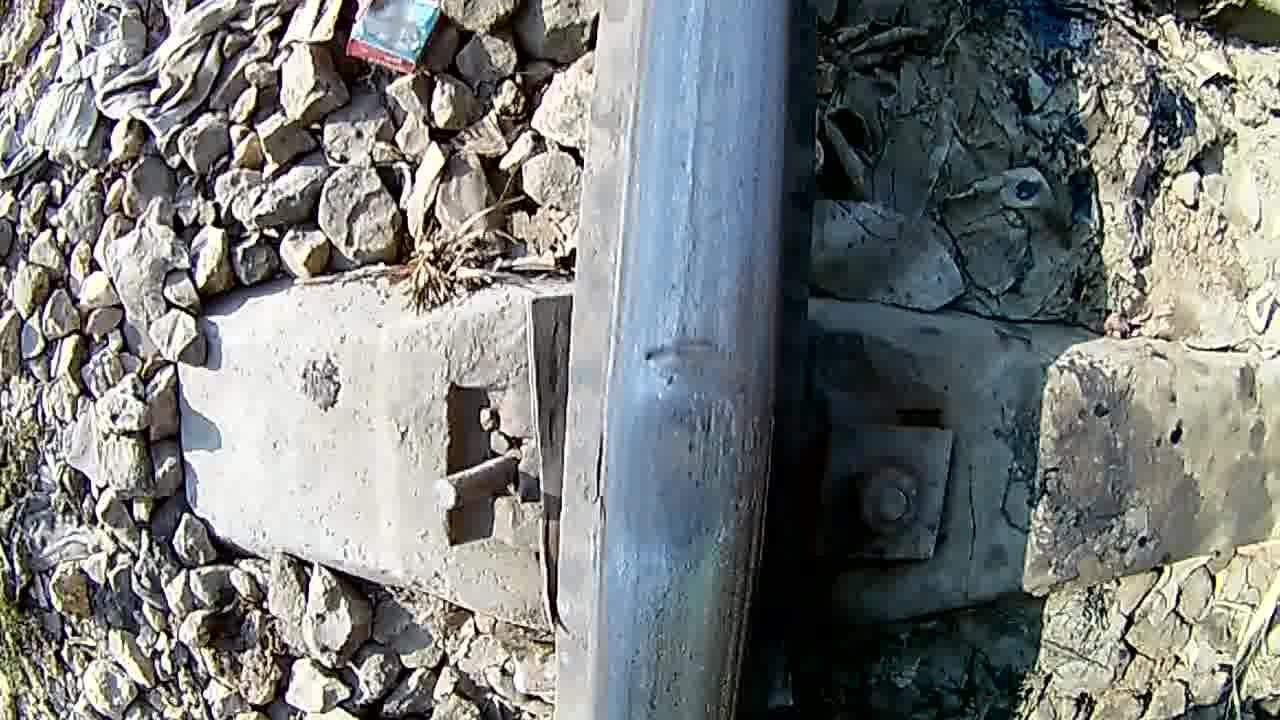bolt_missing: (556, 248, 794, 682)
